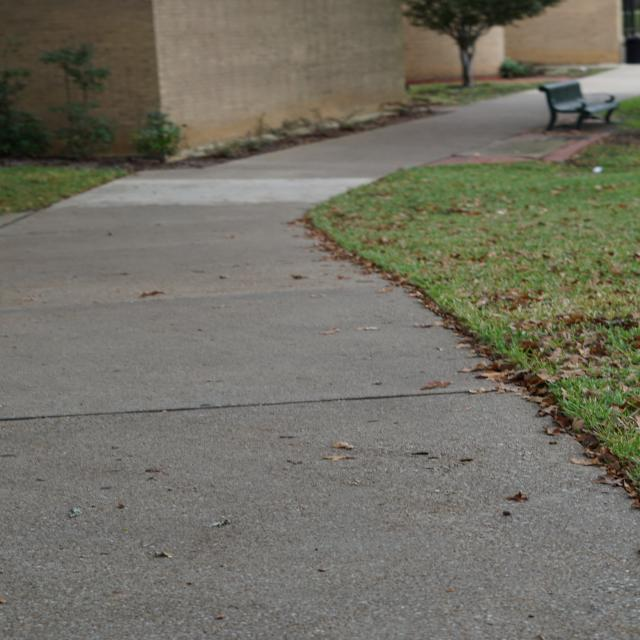Obstacle: (538, 80, 619, 131)
Sidewalk: (0, 92, 640, 638), (580, 65, 640, 99)
